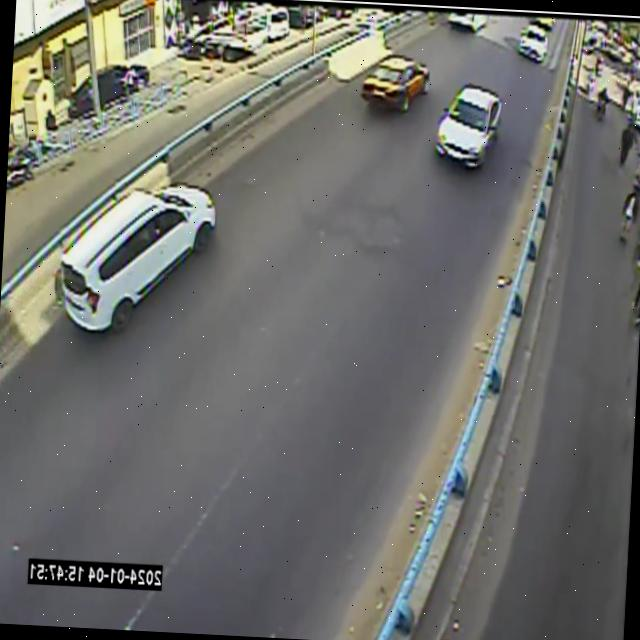car: (56, 163, 220, 344), (58, 183, 216, 332), (60, 184, 216, 330), (516, 16, 557, 68)
